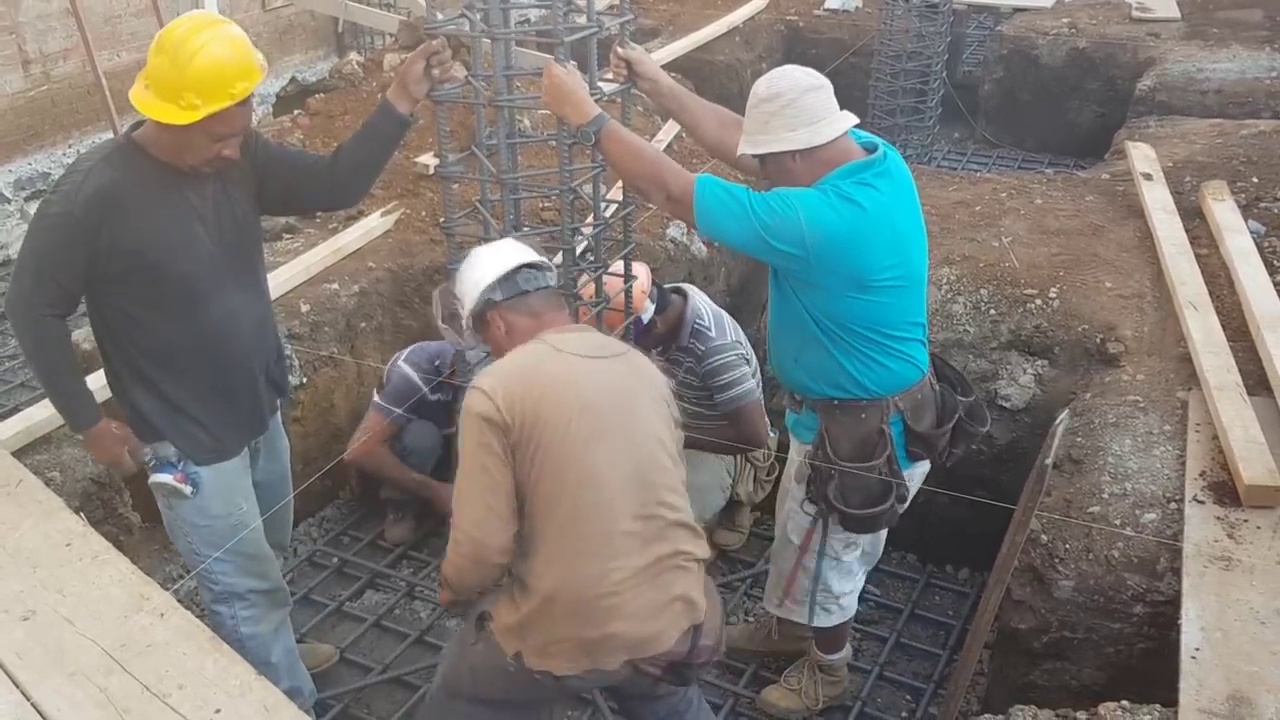helmet: (124, 7, 260, 128), (446, 234, 555, 343), (583, 261, 655, 334)
helmet-off: (730, 60, 869, 195)
helmet-on: (121, 4, 261, 179), (448, 231, 572, 362), (584, 249, 698, 358)
person: (8, 15, 392, 698), (561, 51, 946, 694), (415, 232, 714, 718), (582, 242, 776, 557), (349, 308, 485, 550)
